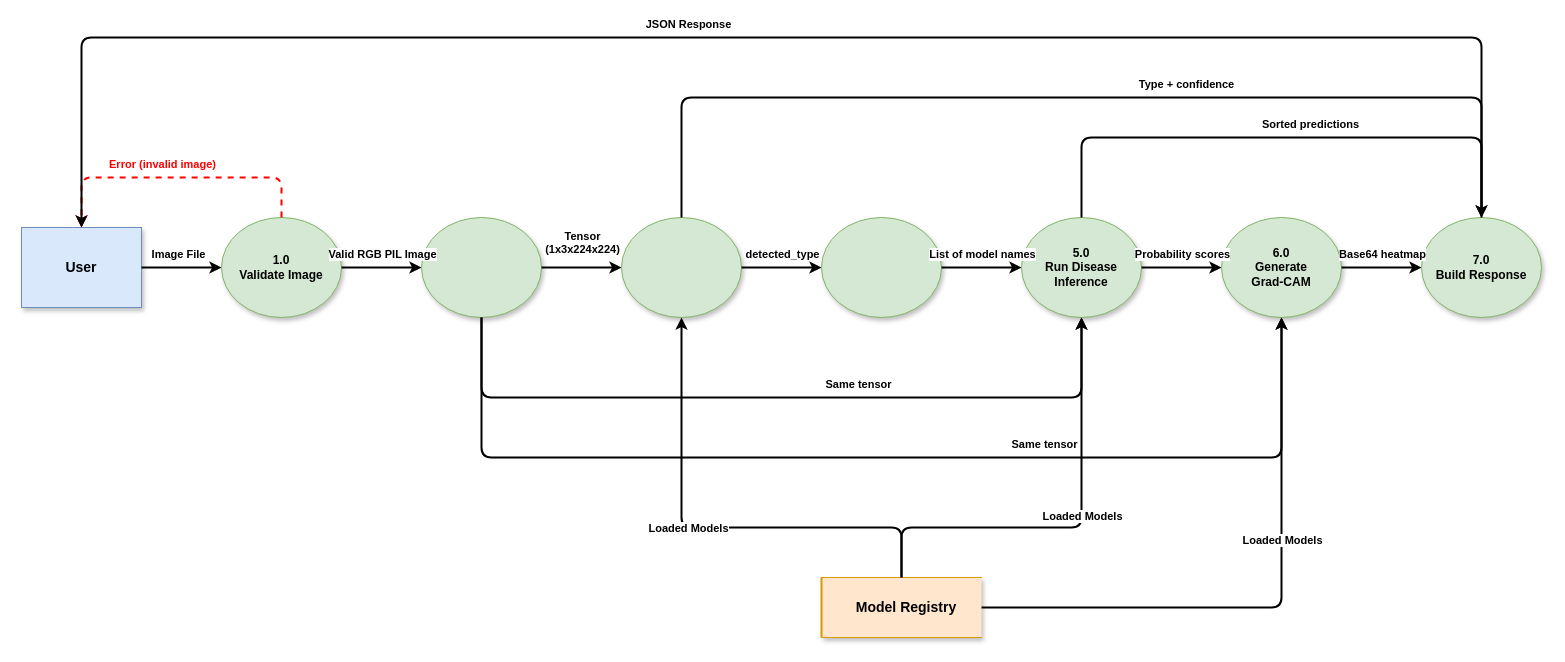
Some shapes in this 1565 by 662 pixel diagram are drawn without their labels. The shapes that lost their labels are listed below. From the top down, each one's centre as x and y in pixels, then its label:
[482,268]: 2.0 Preprocess Image
[682,268]: 3.0 Classify Image Type
[882,268]: 4.0 Route to Disease Models
